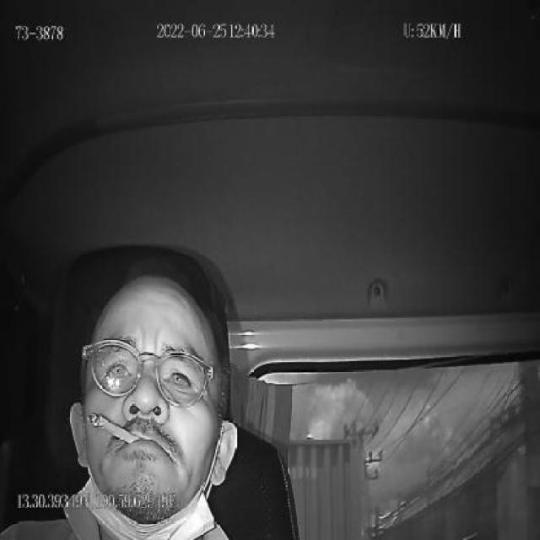smoking: (86, 410, 141, 446)
